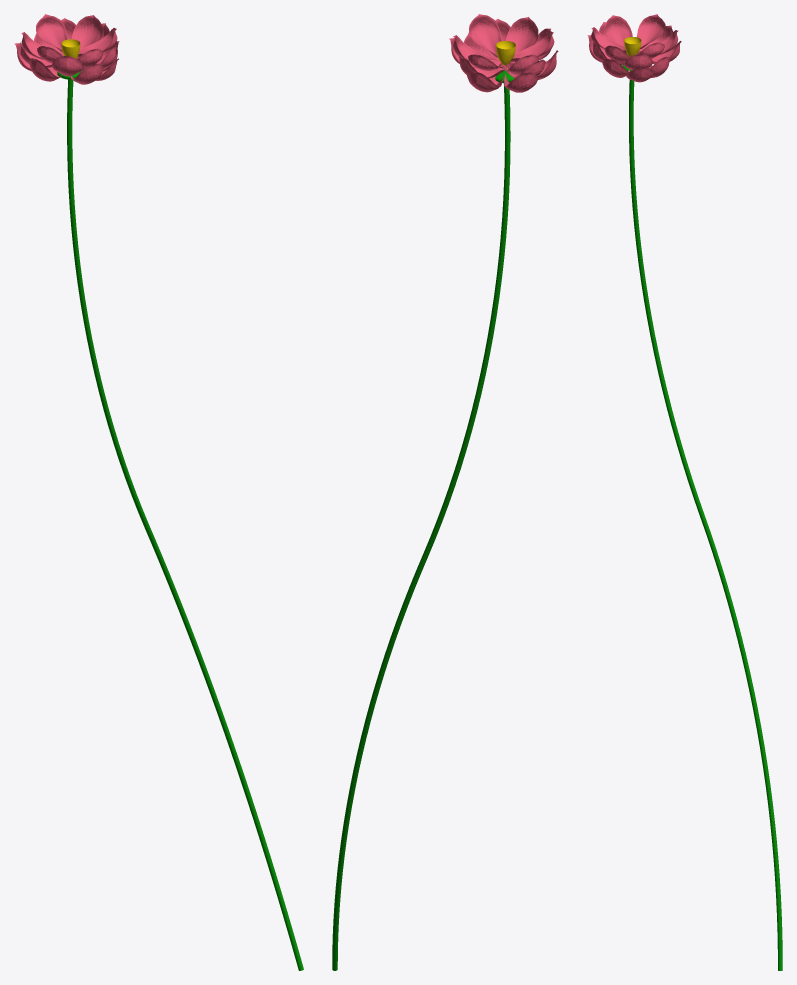
File: Lotus083.fbx
The picture shows the model from 3 angles, left to right: view 1: azimuth 30°, elevation 25°; view 2: azimuth 150°, elevation 25°; view 3: azimuth 330°, elevation 25°; orthographic projection. The views are drawn at different scales.
Parts seen in each view (by area): view 1: pCylinder5, nurbsToPoly23, nurbsToPoly19; view 2: pCylinder5, nurbsToPoly22, nurbsToPoly18, nurbsToPoly10, nurbsToPoly21; view 3: pCylinder5, nurbsToPoly23, nurbsToPoly20.
Part boxes in pixels (bbox=[...]): pCylinder5: bbox=[67, 79, 303, 970]; nurbsToPoly23: bbox=[36, 14, 67, 52]; nurbsToPoly19: bbox=[71, 15, 102, 49]; pCylinder5: bbox=[332, 83, 510, 970]; nurbsToPoly22: bbox=[469, 14, 501, 57]; nurbsToPoly18: bbox=[506, 17, 538, 53]; nurbsToPoly10: bbox=[467, 71, 503, 92]; nurbsToPoly21: bbox=[511, 31, 554, 61]; pCylinder5: bbox=[629, 79, 782, 970]; nurbsToPoly23: bbox=[636, 14, 665, 49]; nurbsToPoly20: bbox=[604, 15, 632, 46].
Bounding box in the file's own units: 52.45 × 200 × 24.27.
